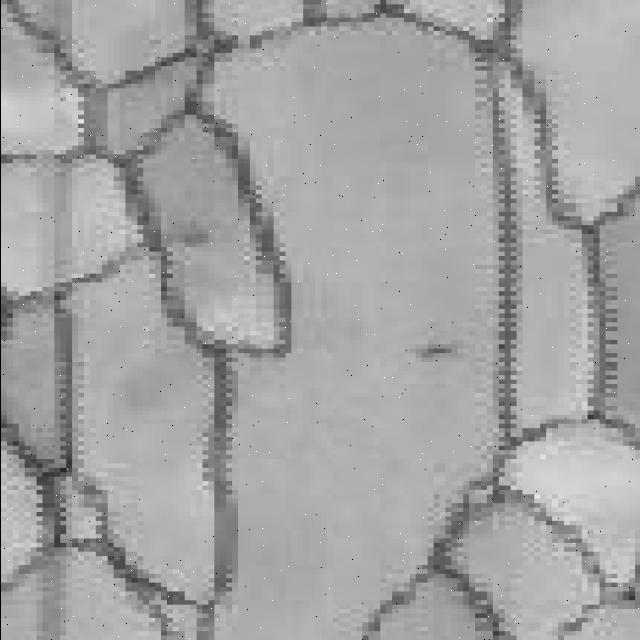good_void: (414, 342, 460, 359)
